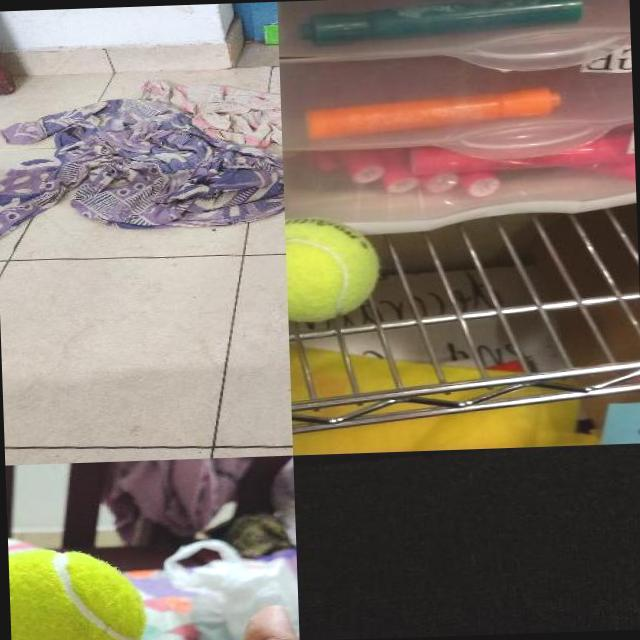Tennis Ball: (9, 545, 150, 640), (286, 214, 383, 326)
